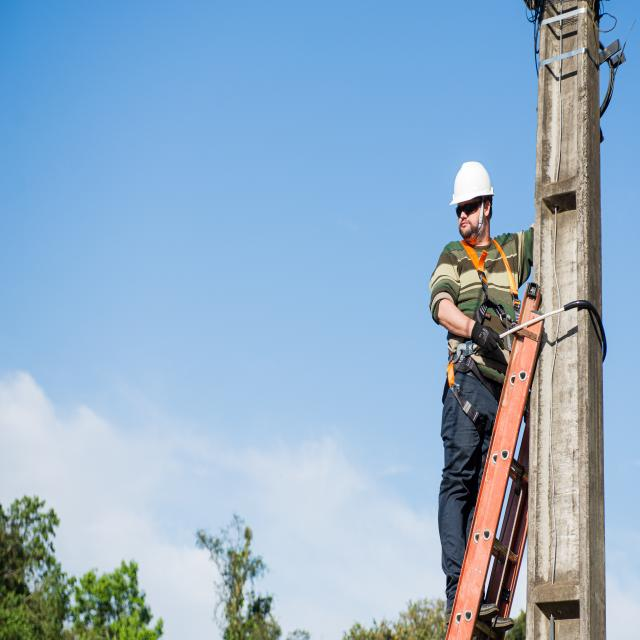capacete: (449, 160, 495, 207)
corda de vida: (441, 233, 522, 446)
luva: (471, 318, 505, 356)
